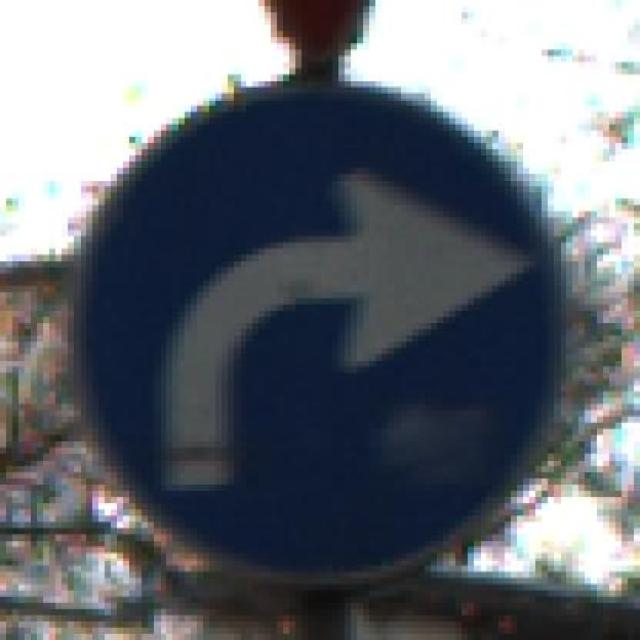Turn right ahead: (61, 74, 578, 603)
